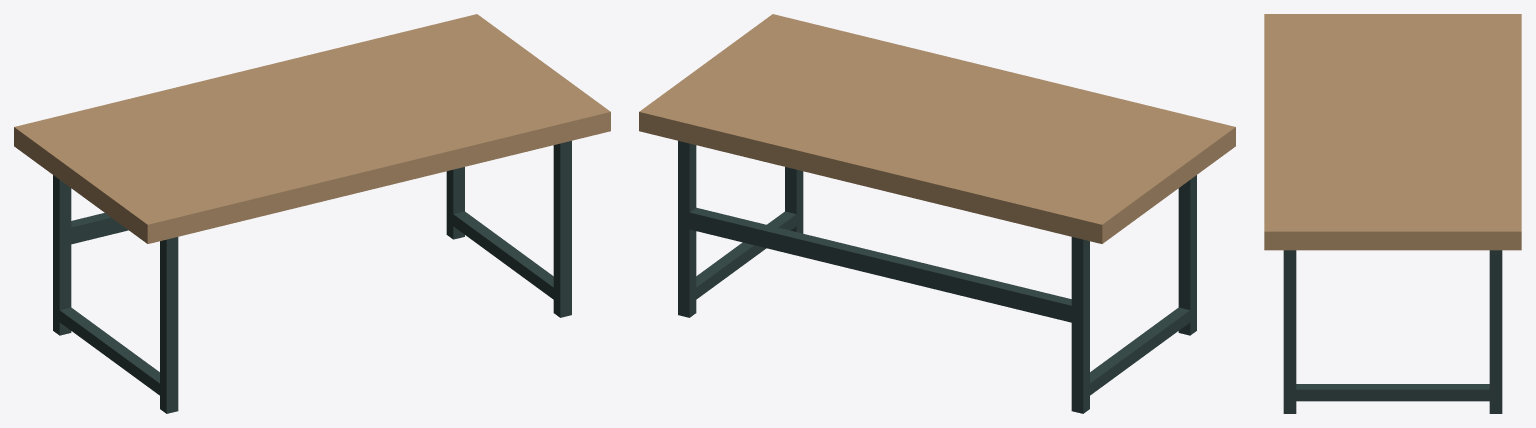
3 renders of one model, left to right at view 1: azimuth 30°, elevation 25°; view 2: azimuth 150°, elevation 25°; view 3: azimuth 270°, elevation 25°, orthographic. The views are drawn at different scales.
Parts seen in each view (by area): view 1: desktop, leg-0.850.4, leg0.850.4, leg-0.85-0.4, lower0.85, lower-0.85, rear, leg0.85-0.4; view 2: desktop, rear, leg-0.85-0.4, leg0.85-0.4, leg-0.850.4, lower-0.85, lower0.85, leg0.850.4; view 3: desktop, lower0.85, leg0.850.4, leg0.85-0.4.
Boxes of the visible parts, <box> form: desktop: <box>14,14,610,243</box>; leg-0.850.4: <box>160,237,178,413</box>; leg0.850.4: <box>553,141,571,317</box>; leg-0.85-0.4: <box>53,175,71,335</box>; lower0.85: <box>447,210,571,299</box>; lower-0.85: <box>58,307,178,395</box>; rear: <box>58,213,128,244</box>; leg0.85-0.4: <box>446,167,464,239</box>; desktop: <box>639,14,1235,243</box>; rear: <box>680,207,1089,324</box>; leg-0.85-0.4: <box>1071,237,1089,413</box>; leg0.85-0.4: <box>678,141,696,317</box>; leg-0.850.4: <box>1178,175,1196,335</box>; lower-0.85: <box>1071,307,1190,398</box>; lower0.85: <box>681,211,802,301</box>; leg0.850.4: <box>785,167,803,233</box>; desktop: <box>1264,14,1521,250</box>; lower0.85: <box>1283,384,1502,401</box>; leg0.850.4: <box>1283,250,1296,413</box>; leg0.85-0.4: <box>1489,250,1502,413</box>.
Bounding box in the file's own units: 2 × 0.84 × 1.
